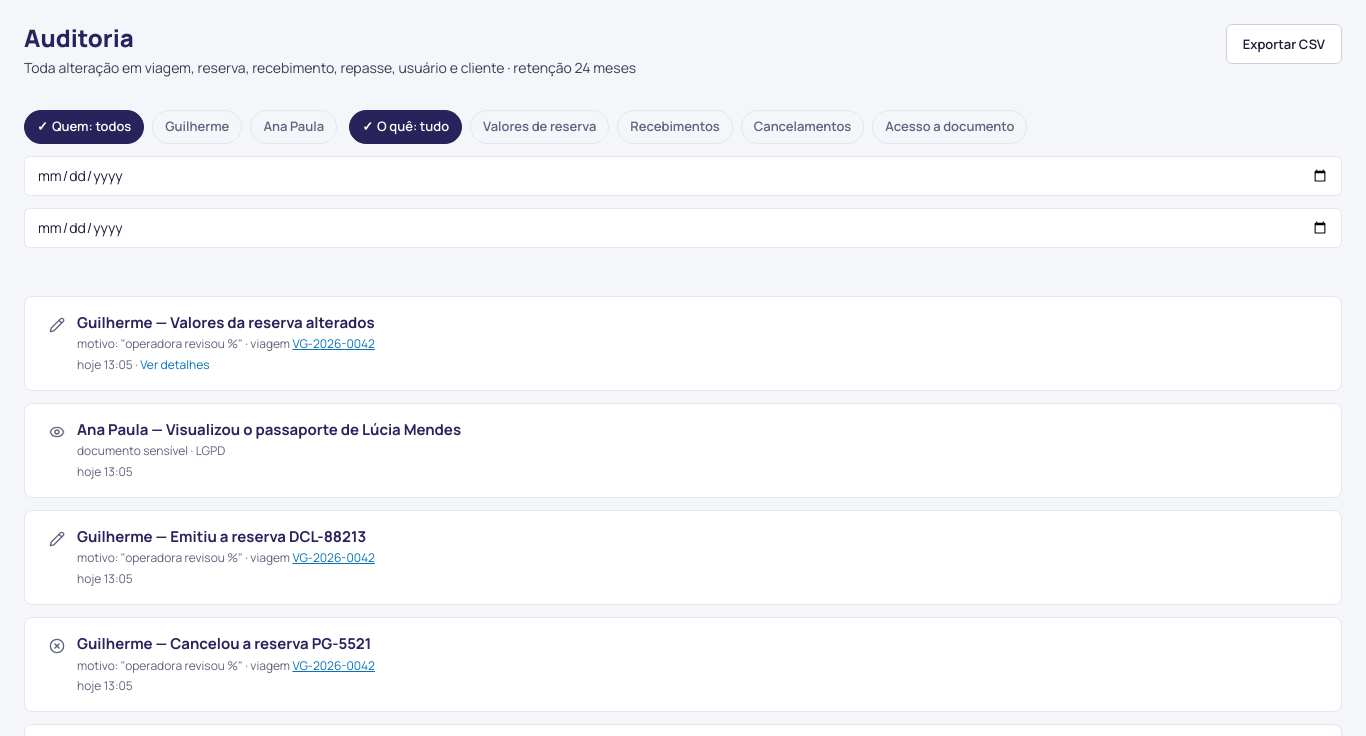
Exportar CSV com falha mostra Alert com a mensagem de erro (MED-04)
The image size is (1366, 736).
Step 1. Click the button "Exportar CSV" → x=1284, y=44, box x1=1226 y1=24 x2=1342 y2=64
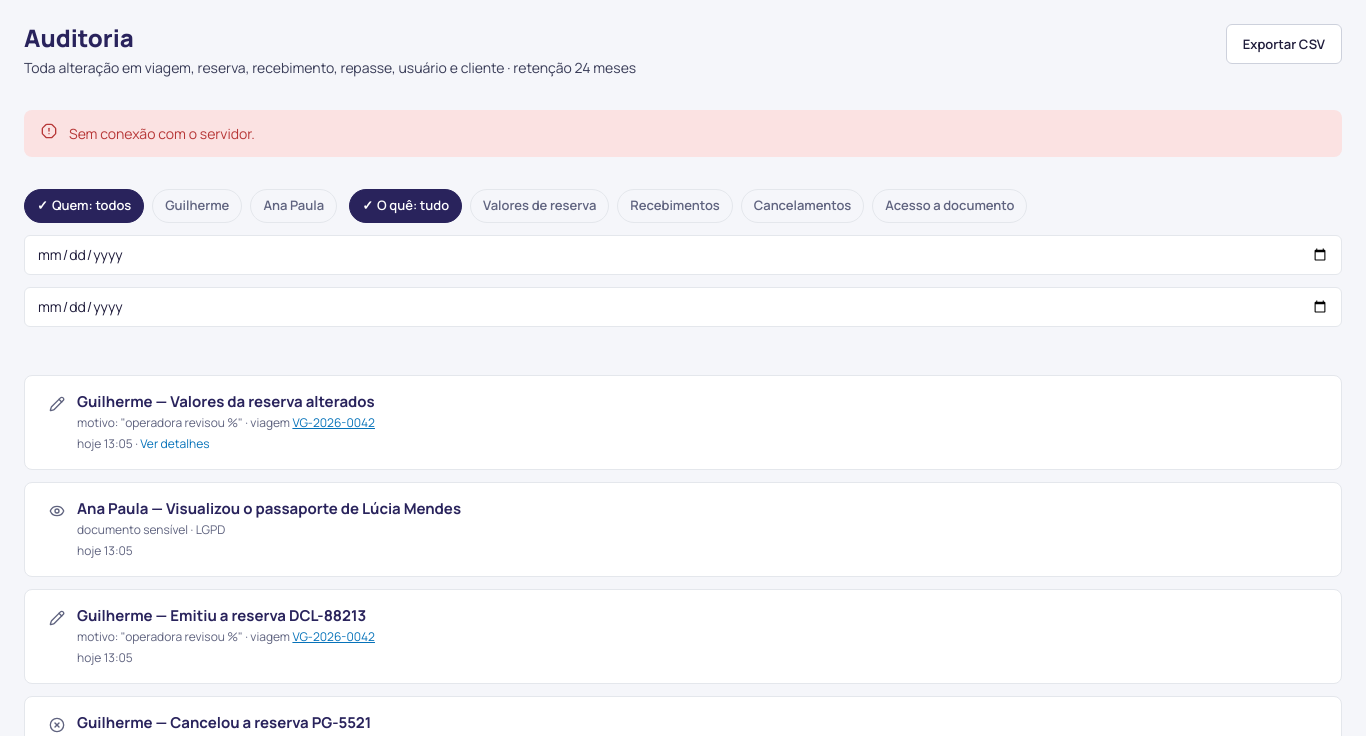
Expected: the message reads "Sem conexão com o servidor.", x1=69 y1=124 x2=255 y2=143
